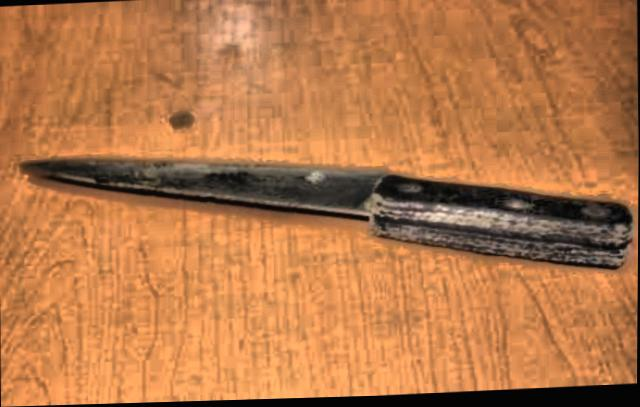knife: (12, 138, 402, 253)
